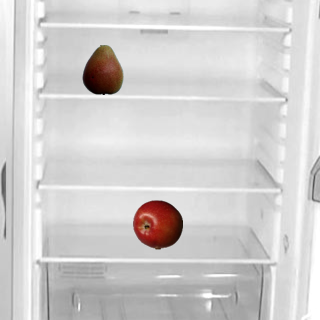Apple Braeburn: (132, 199, 182, 249)
Pear Forelle: (77, 44, 127, 94)
